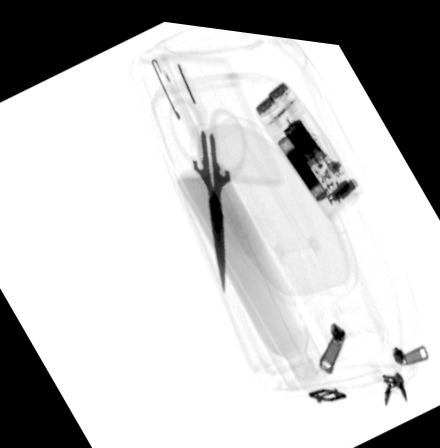Scissors: (166, 87, 248, 288)
